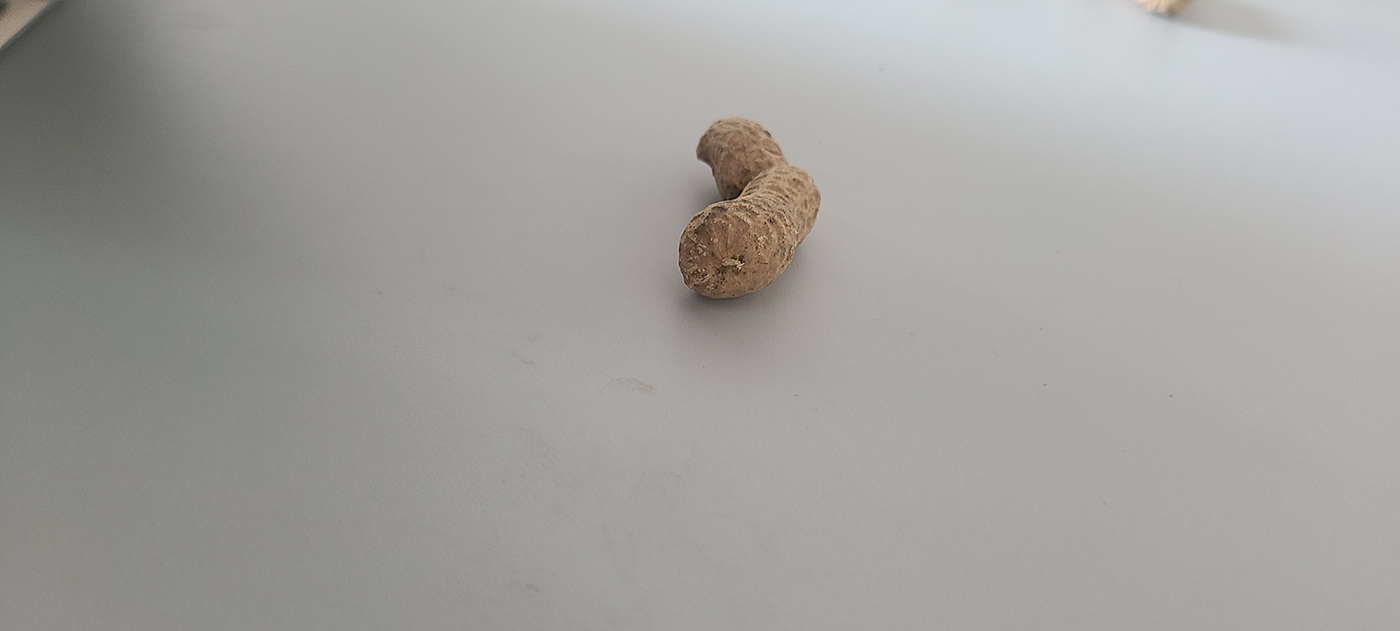h: (674, 109, 824, 302)
